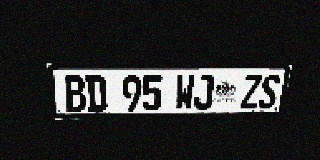5: (142, 75, 162, 111)
9: (122, 75, 142, 111)
B: (63, 75, 87, 112)
D: (85, 75, 107, 112)
J: (193, 75, 215, 110)
S: (258, 75, 281, 109)
W: (175, 75, 195, 110)
Z: (240, 75, 263, 109)
